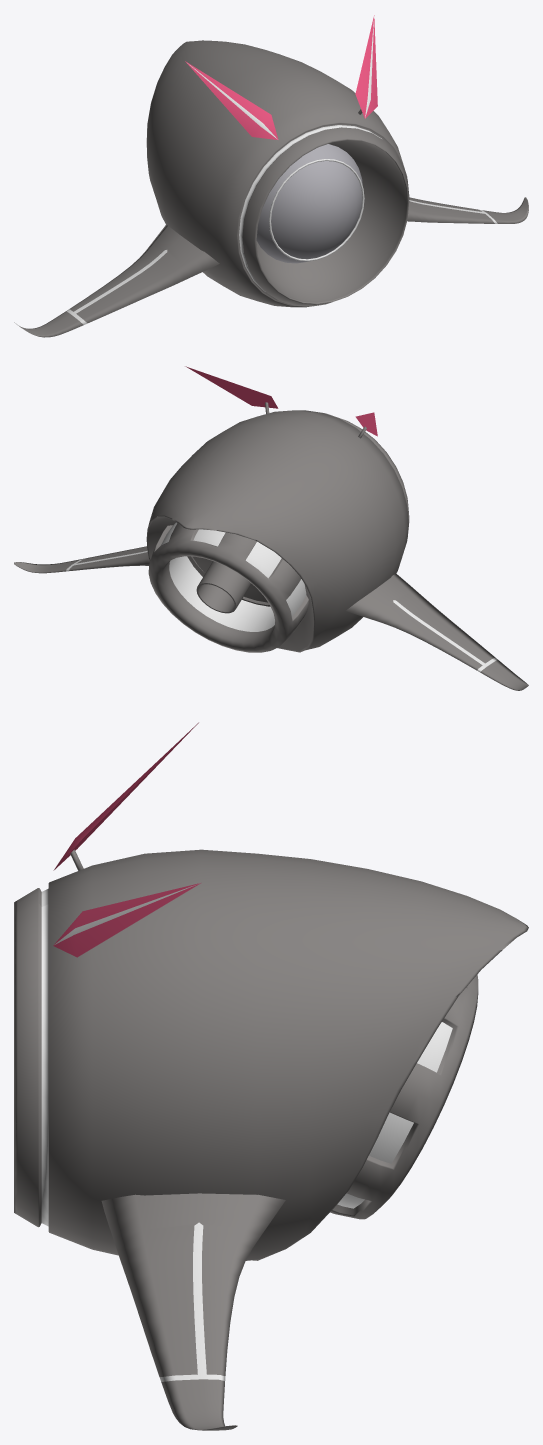
The model's file is aclad3.fbx.
3 views of the same model, one above another, from view 1: azimuth 30°, elevation 25°; view 2: azimuth 150°, elevation 25°; view 3: azimuth 270°, elevation 25° (orthographic). The views are drawn at different scales.
Parts seen in each view (by area): view 1: main body 2, Sphere.001, wings, Antenae, Torus.004; view 2: main body 2, Torus.001, wings, Torus.002, Cylinder, Antenae; view 3: main body 2, wings, Torus.001, Antenae, Torus.002.
Boxes of the visible parts, x1=… form: main body 2: x1=146, y1=40, x2=409, y2=307; Sphere.001: x1=256, y1=144, x2=362, y2=263; wings: x1=14, y1=197, x2=528, y2=337; Antenae: x1=185, y1=15, x2=377, y2=139; Torus.004: x1=269, y1=159, x2=364, y2=261; main body 2: x1=146, y1=410, x2=409, y2=652; Torus.001: x1=148, y1=523, x2=308, y2=652; wings: x1=14, y1=546, x2=528, y2=690; Torus.002: x1=161, y1=522, x2=306, y2=631; Cylinder: x1=196, y1=561, x2=251, y2=613; Antenae: x1=185, y1=366, x2=377, y2=436; main body 2: x1=14, y1=849, x2=528, y2=1260; wings: x1=101, y1=1193, x2=285, y2=1430; Torus.001: x1=330, y1=974, x2=478, y2=1219; Antenae: x1=53, y1=722, x2=200, y2=957; Torus.002: x1=337, y1=1022, x2=452, y2=1208.
Size of the model in its own units: 501 by 236 by 247.
